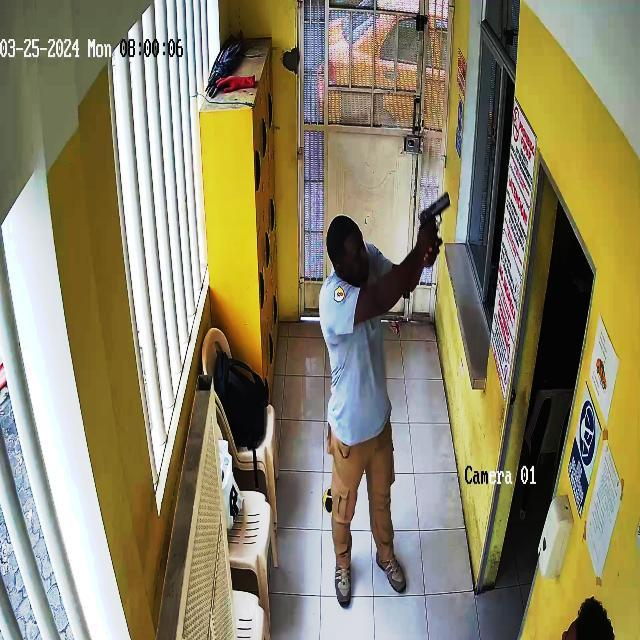Gun: (410, 176, 465, 248)
